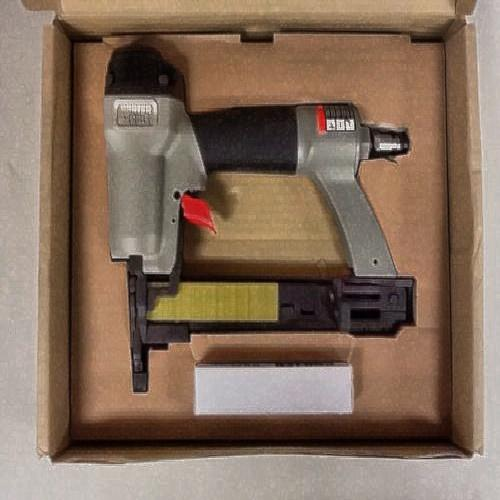stapler: (104, 63, 406, 391)
